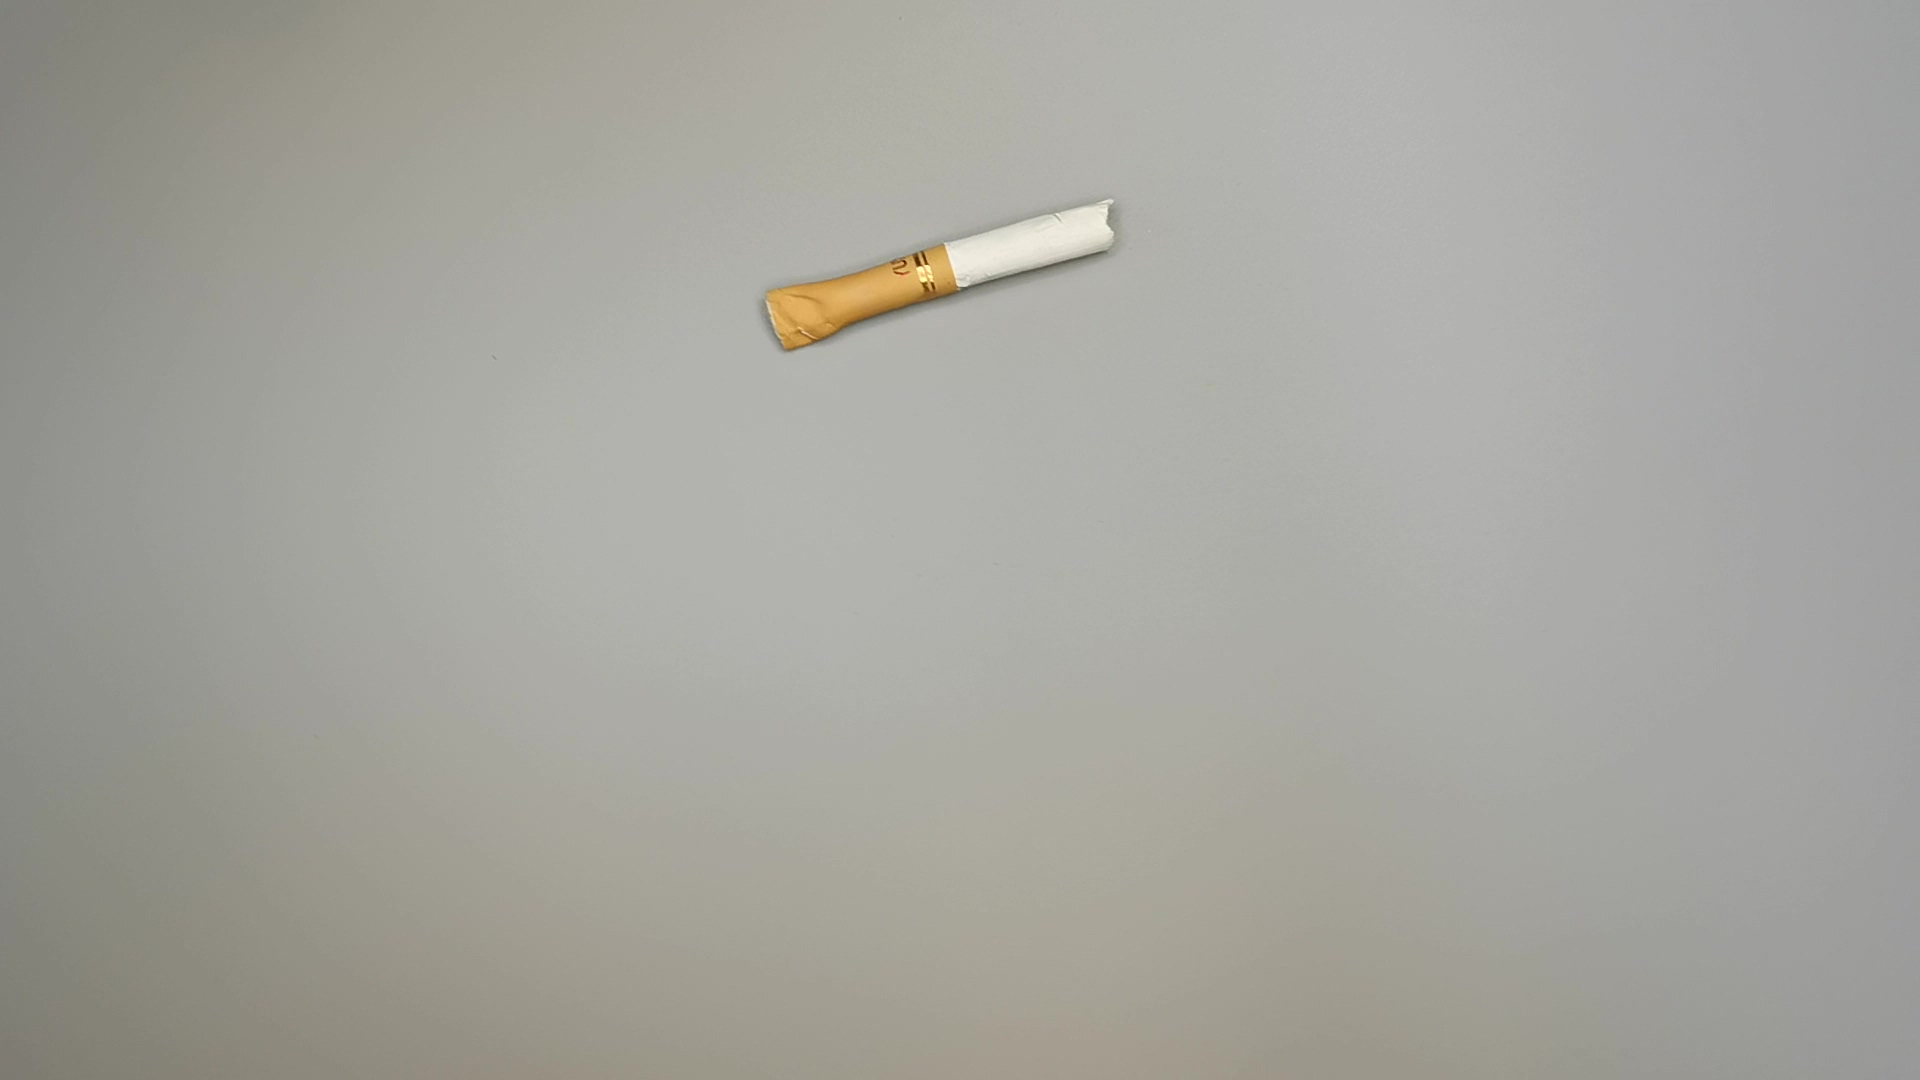cigarette: (758, 194, 1134, 361)
